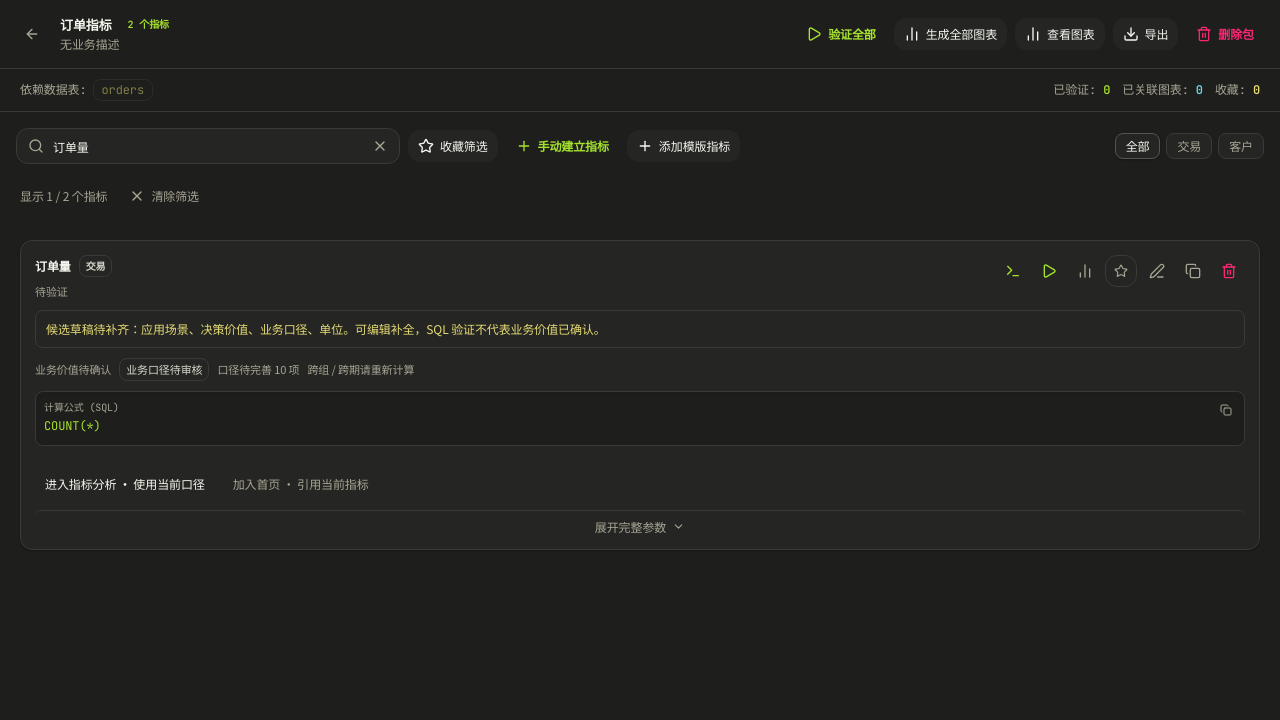
Test: MetricManager workflow regressions › allows returning from a linked metric without update events reopening it
Expected: the text "订单量" is shown, [35, 258, 71, 274]
Click the button named "返回指标包列表" at (32, 34), box [16, 18, 48, 50]
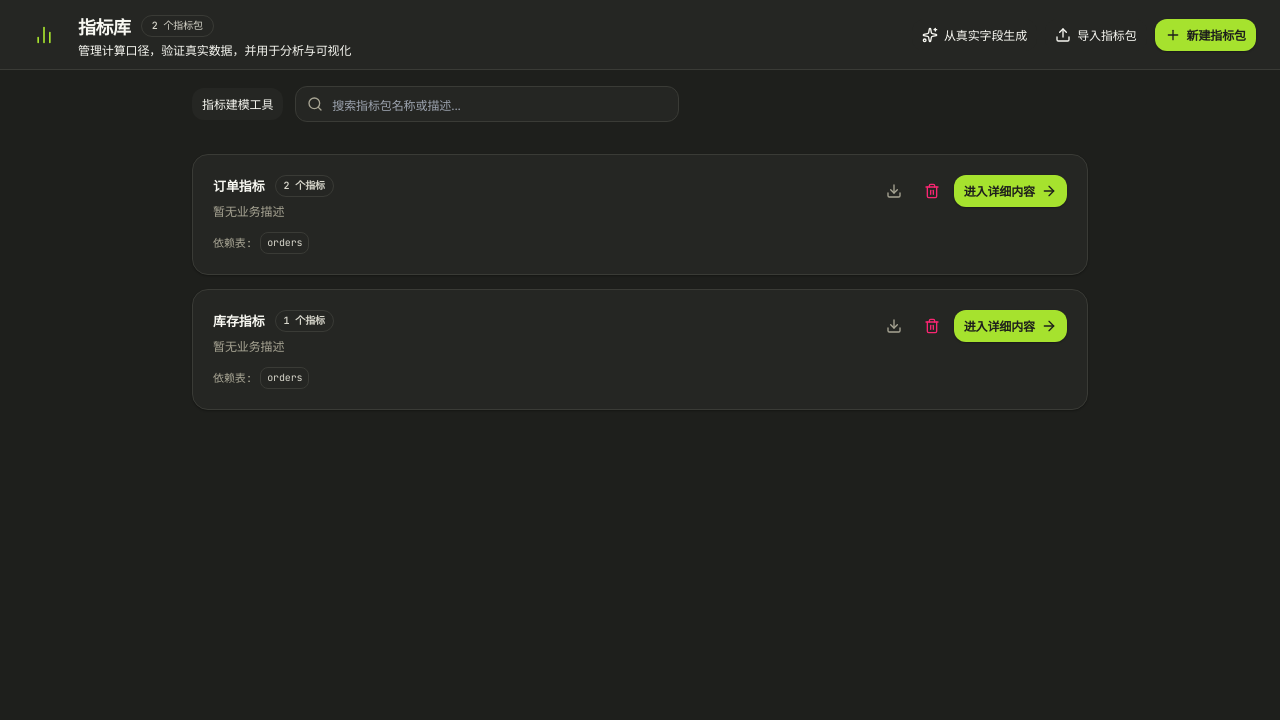
Expected: the button "返回指标包列表" is gone
